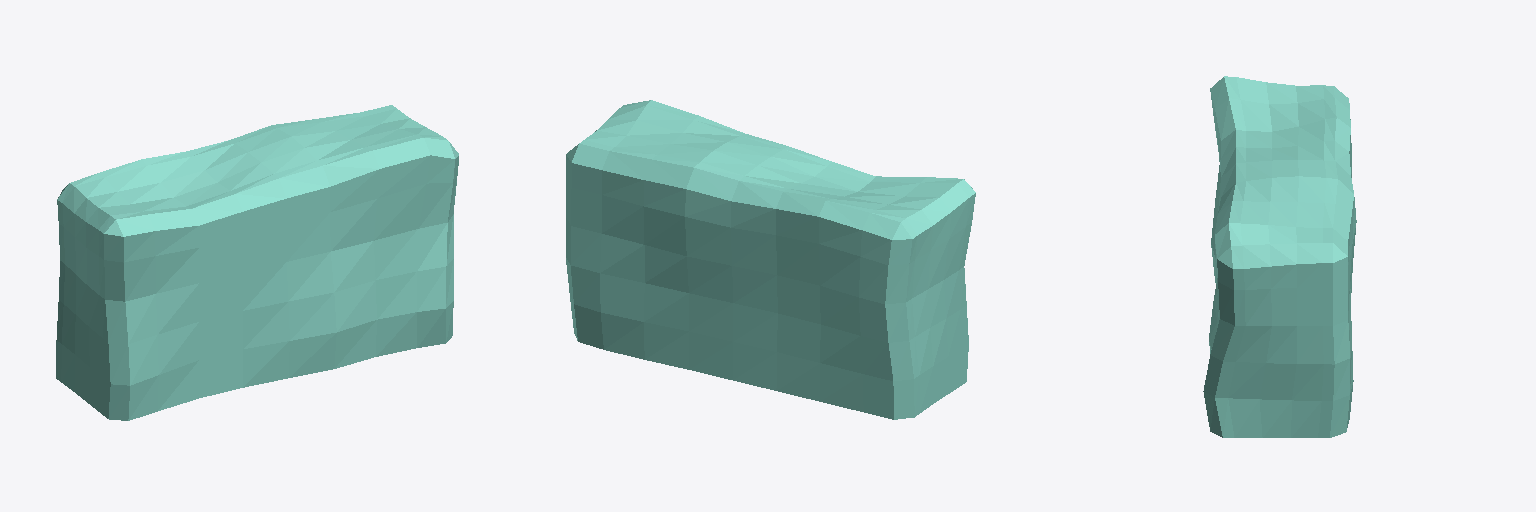
Rendered from bush1.obj.
3 renders of one model, left to right at view 1: azimuth 30°, elevation 25°; view 2: azimuth 150°, elevation 25°; view 3: azimuth 270°, elevation 25°, orthographic.
Parts seen in each view (by area): view 1: Box001; view 2: Box001; view 3: Box001.
Boxes of the visible parts, box(x1,y1,x2,y2) form: Box001: box(56, 105, 458, 420); Box001: box(566, 100, 975, 419); Box001: box(1203, 76, 1356, 437).
Bounding box in the file's own units: 15.03 × 8.17 × 5.54.